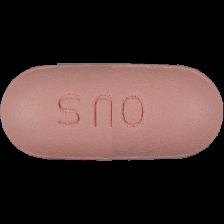50090-1121: (0, 0, 224, 224)
